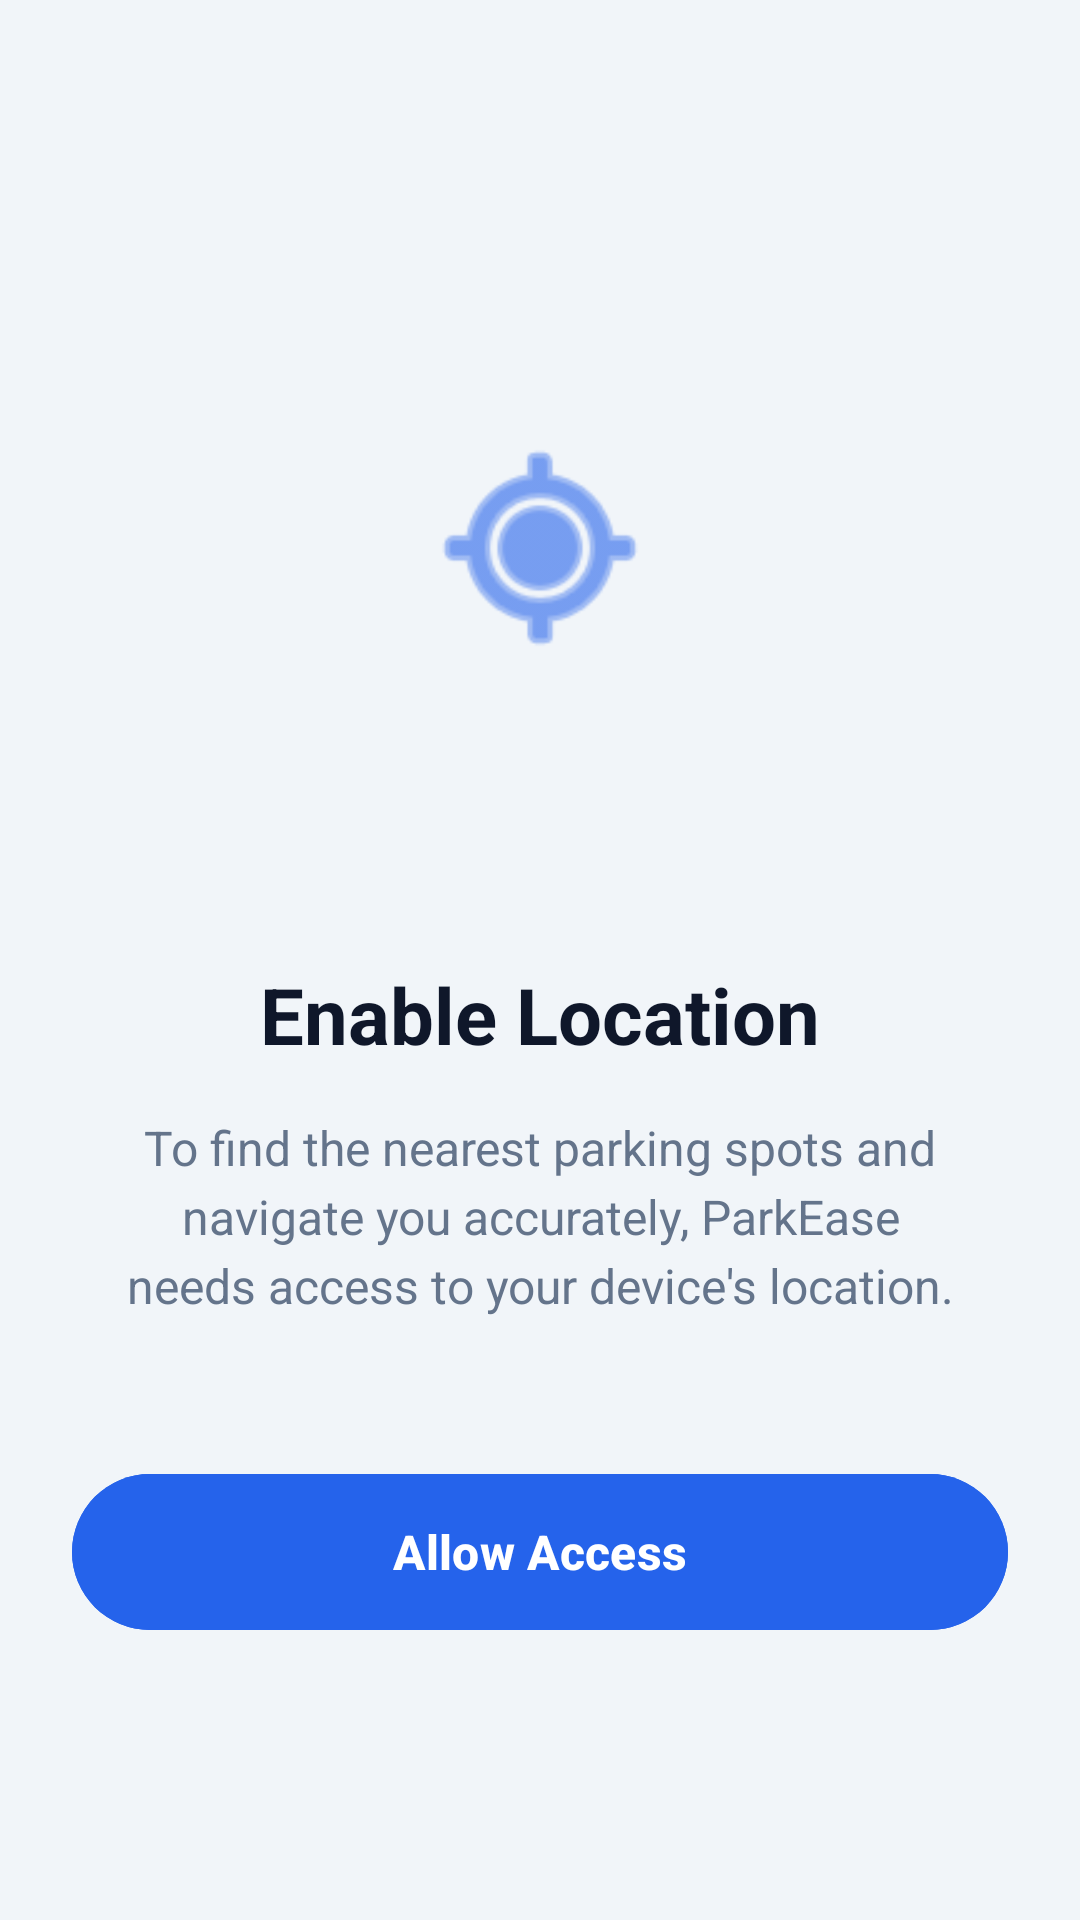

Screen size 1080×1920. Icon name, then its box in pixels as bbox=(x1, y1, x2, y2):
mylocation: bbox=(444, 452, 636, 644)
